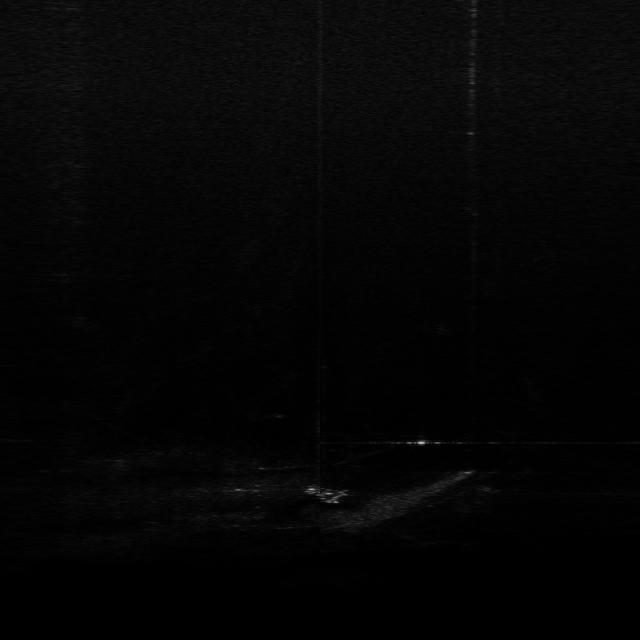rov: (306, 483, 352, 505)
